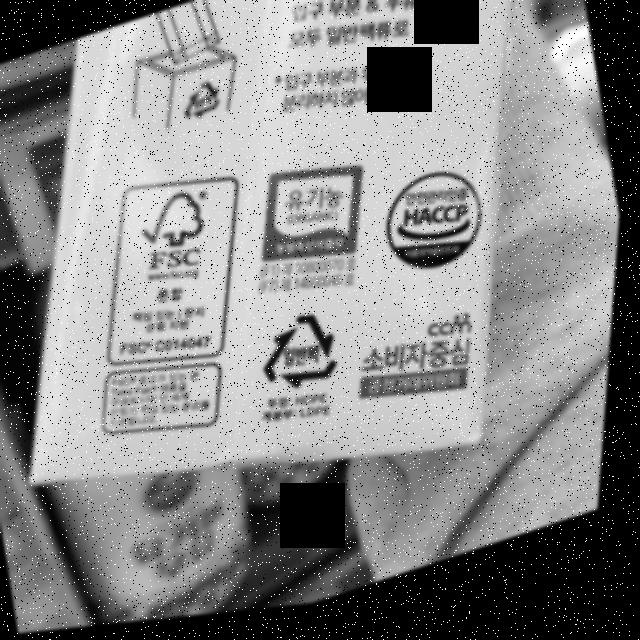NormalPack: (253, 305, 358, 412)
